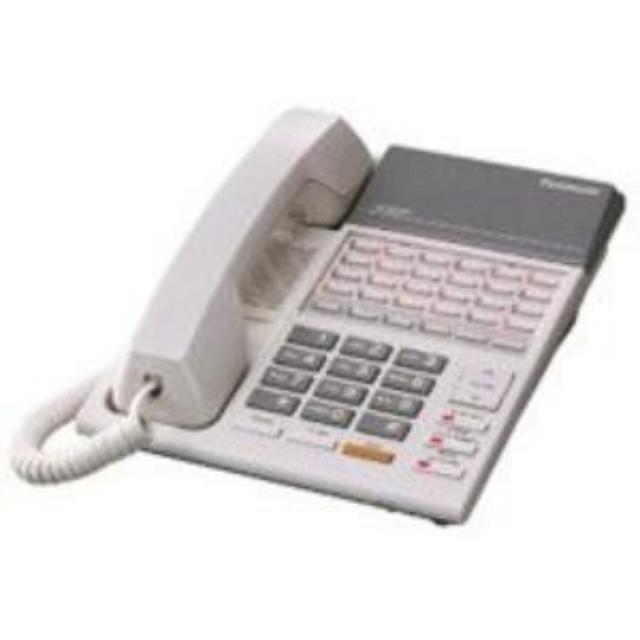Telephone-Set: (1, 98, 640, 532)
